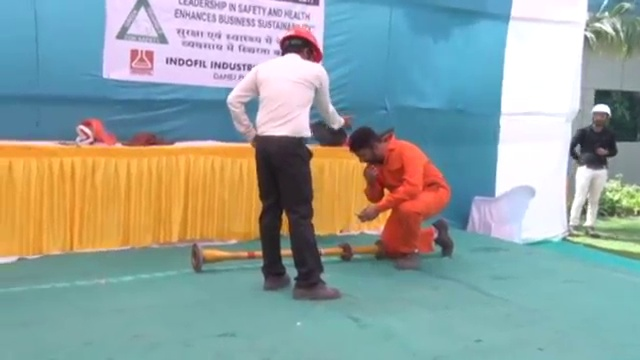helmet: (278, 26, 324, 62), (591, 102, 612, 119)
helmet_off: (346, 124, 388, 164)
helmet_on: (275, 26, 323, 68), (589, 102, 611, 134)
person: (222, 27, 352, 303), (344, 122, 457, 274), (570, 102, 621, 240)
